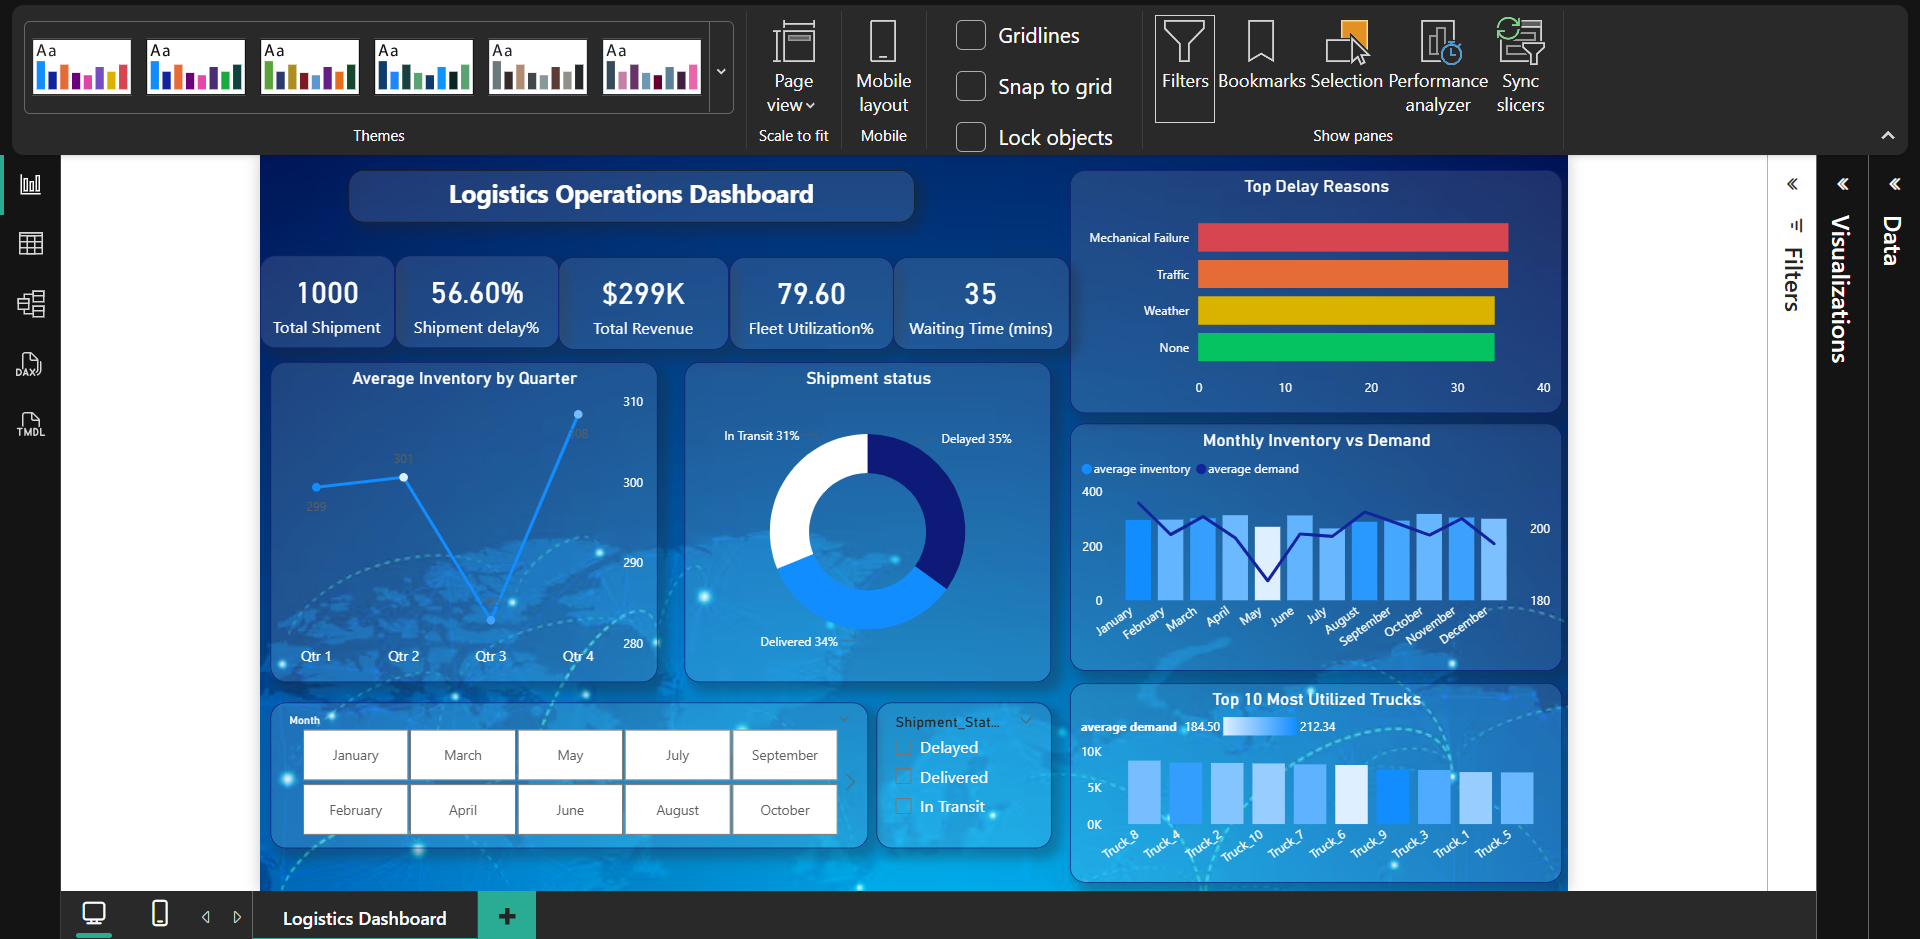

The page's visual inventory and layout, read from the dashboard file:
{"tool":"powerbi","page":{"name":"Logistics Dashboard","canvas":[1280,720],"ordinal":0},"visuals":[{"type":"textbox","box":[86.3,15.1,554.2,51.5],"z":0},{"type":"lineClusteredColumnComboChart","title":"Monthly Inventory vs Demand","fields":{"Y":["smart_logistics_dataset.average inventory"],"Y2":["smart_logistics_dataset.average demand"],"Category":["smart_logistics_dataset.Date.Variation.Date Hierarchy.Month"]},"box":[791.9,262,481.5,242.3],"z":1000},{"type":"barChart","title":"Top Delay Reasons","fields":{"Category":["smart_logistics_dataset.Logistics_Delay_Reason"],"Y":["smart_logistics_dataset.average waiting time"]},"box":[791.9,15.1,481.5,237.7],"z":2000},{"type":"donutChart","title":"Shipment status","fields":{"Category":["smart_logistics_dataset.Shipment_Status"],"Y":["smart_logistics_dataset.count shipment status"]},"box":[414.9,202.9,358.9,313.4],"z":3000},{"type":"clusteredColumnChart","title":"Top 10 Most Utilized Trucks","fields":{"Category":["smart_logistics_dataset.Asset_ID"],"Y":["Sum(smart_logistics_dataset.Asset_Utilization)"]},"box":[791.9,516.3,481.5,195.3],"z":4000},{"type":"lineChart","title":"Average Inventory by Quarter","fields":{"Category":["smart_logistics_dataset.Date.Variation.Date Hierarchy.Quarter","smart_logistics_dataset.Date.Variation.Date Hierarchy.Month"],"Y2":["smart_logistics_dataset.average inventory"]},"box":[10.6,202.9,378.6,313.4],"z":5000},{"type":"card","fields":{"Values":["smart_logistics_dataset.total shipment"]},"box":[0,98.4,131.7,90.9],"z":6000},{"type":"card","fields":{"Values":["smart_logistics_dataset.delayed %"]},"box":[131.7,98.4,160.5,90.9],"z":7000},{"type":"card","fields":{"Values":["smart_logistics_dataset.total revenue"]},"box":[292.2,99.9,166.6,90.9],"z":9000},{"type":"slicer","fields":{"Values":["smart_logistics_dataset.Date.Variation.Date Hierarchy.Month"]},"box":[10.6,536,584.5,142.3],"z":10000},{"type":"slicer","fields":{"Values":["smart_logistics_dataset.Shipment_Status"]},"box":[602.7,536,171.1,142.3],"z":11000},{"type":"card","fields":{"Values":["CALANDER.Fleet Utilization%"]},"box":[458.8,99.9,160.5,90.9],"z":11001},{"type":"card","fields":{"Values":["smart_logistics_dataset.average waiting time"]},"box":[619.3,99.9,172.6,90.9],"z":11002}]}

Visuals, with their boxes on the page's 1280x720 design canvas (x1, y1, x2, y2). These are canvas units, not pixel positions in the 1920x939 screenshot, which may show the page scaled, cropped or inside an application window:
textbox: (x1=86, y1=15, x2=640, y2=67)
"Monthly Inventory vs Demand" lineClusteredColumnComboChart: (x1=792, y1=262, x2=1273, y2=504)
"Top Delay Reasons" barChart: (x1=792, y1=15, x2=1273, y2=253)
"Shipment status" donutChart: (x1=415, y1=203, x2=774, y2=516)
"Top 10 Most Utilized Trucks" clusteredColumnChart: (x1=792, y1=516, x2=1273, y2=712)
"Average Inventory by Quarter" lineChart: (x1=11, y1=203, x2=389, y2=516)
card - smart_logistics_dataset.total shipment: (x1=0, y1=98, x2=132, y2=189)
card - smart_logistics_dataset.delayed %: (x1=132, y1=98, x2=292, y2=189)
card - smart_logistics_dataset.total revenue: (x1=292, y1=100, x2=459, y2=191)
slicer - smart_logistics_dataset.Date.Variation.Date Hierarchy.Month: (x1=11, y1=536, x2=595, y2=678)
slicer - smart_logistics_dataset.Shipment_Status: (x1=603, y1=536, x2=774, y2=678)
card - CALANDER.Fleet Utilization%: (x1=459, y1=100, x2=619, y2=191)
card - smart_logistics_dataset.average waiting time: (x1=619, y1=100, x2=792, y2=191)
